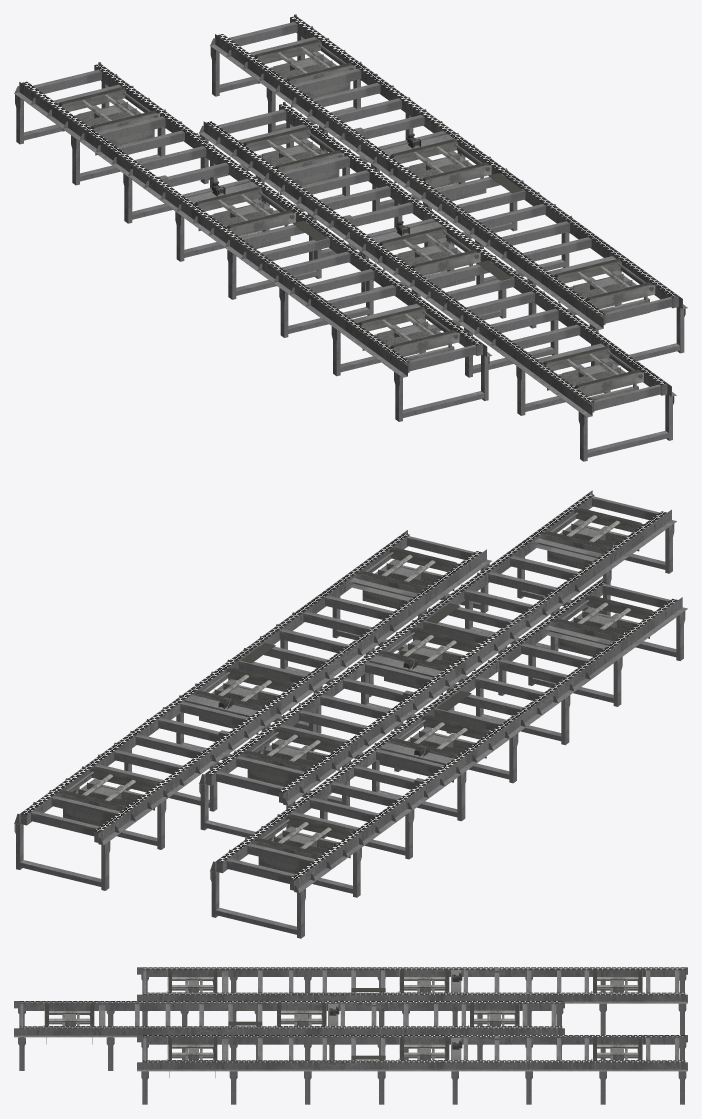
The model's file is liushui2.FBX.
The picture shows the model from 3 angles, top to bottom: view 1: azimuth 30°, elevation 25°; view 2: azimuth 150°, elevation 25°; view 3: azimuth 270°, elevation 25°; orthographic projection. The views are drawn at different scales.
Parts seen in each view (by area): view 1: YF_Model_liushui004, YF_Model_liushui3, YF_Model_liushui005; view 2: YF_Model_liushui004, YF_Model_liushui005, YF_Model_liushui3; view 3: YF_Model_liushui005, YF_Model_liushui3, YF_Model_liushui004.
Boxes of the visible parts, left/top/right/bottom form: YF_Model_liushui004: left=14, top=62, right=492, bottom=421; YF_Model_liushui3: left=199, top=102, right=676, bottom=461; YF_Model_liushui005: left=210, top=14, right=687, bottom=365; YF_Model_liushui004: left=210, top=577, right=687, bottom=938; YF_Model_liushui005: left=14, top=530, right=491, bottom=890; YF_Model_liushui3: left=199, top=490, right=676, bottom=837; YF_Model_liushui005: left=137, top=1035, right=687, bottom=1104; YF_Model_liushui3: left=14, top=1001, right=564, bottom=1070; YF_Model_liushui004: left=137, top=967, right=687, bottom=1034.
Size of the model in its own units: 262 by 57.74 by 754.
Materials: 1 (1 with a texture image).
